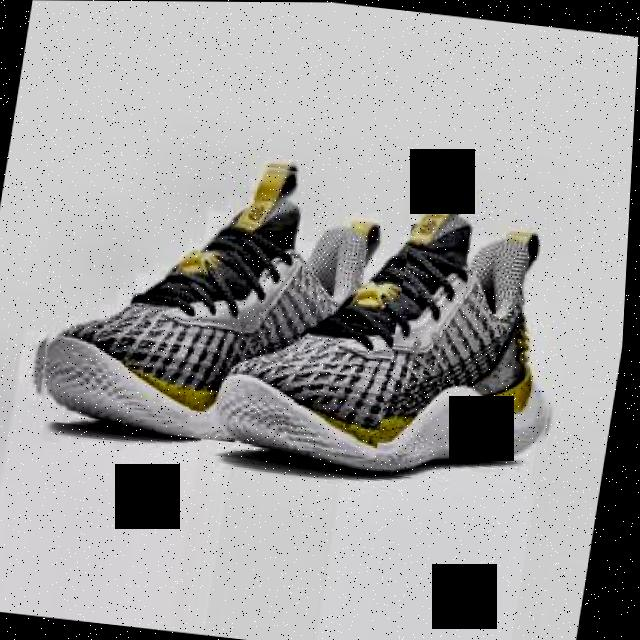shoe: (202, 158, 590, 491), (27, 138, 422, 457)
